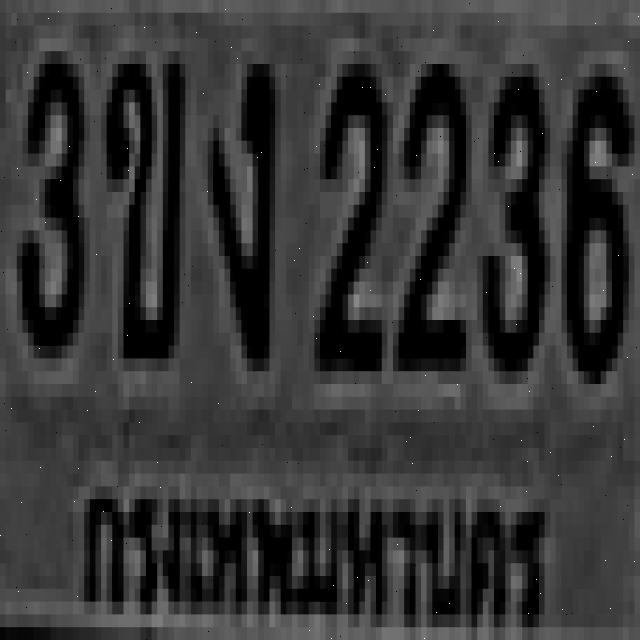11KhorKhai: (102, 45, 180, 352)
16NgorNgu: (202, 52, 270, 358)
2: (393, 52, 466, 358), (314, 52, 382, 358)
3: (477, 52, 545, 358), (16, 38, 78, 346)
6: (561, 64, 629, 371)
Bangkok: (76, 458, 556, 640)
